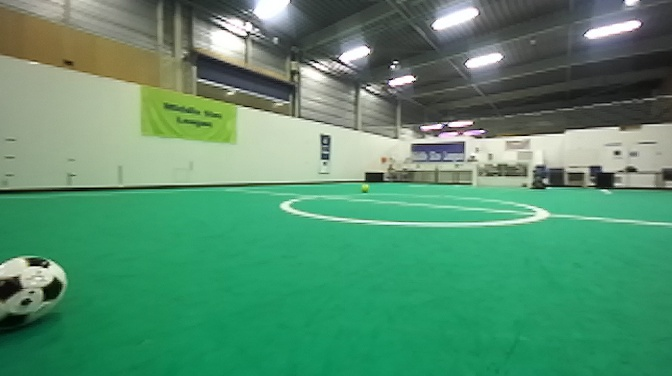ball: (1, 252, 73, 335), (359, 182, 371, 194)
goal: (470, 162, 532, 188)
goalpost: (471, 162, 477, 187), (527, 161, 532, 189)
robot: (533, 164, 547, 192)
